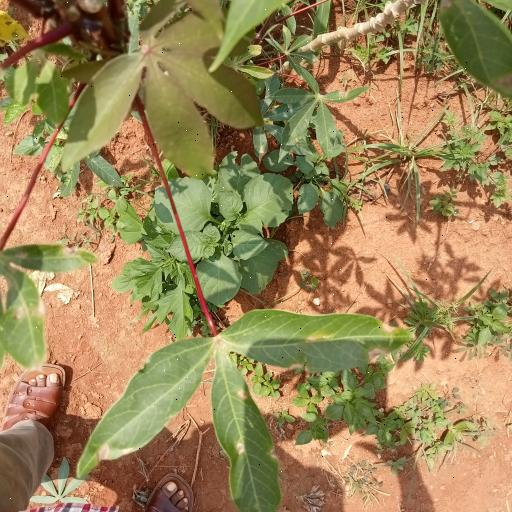Cassava_Brown_Leaf_Spot: (79, 308, 397, 508)
